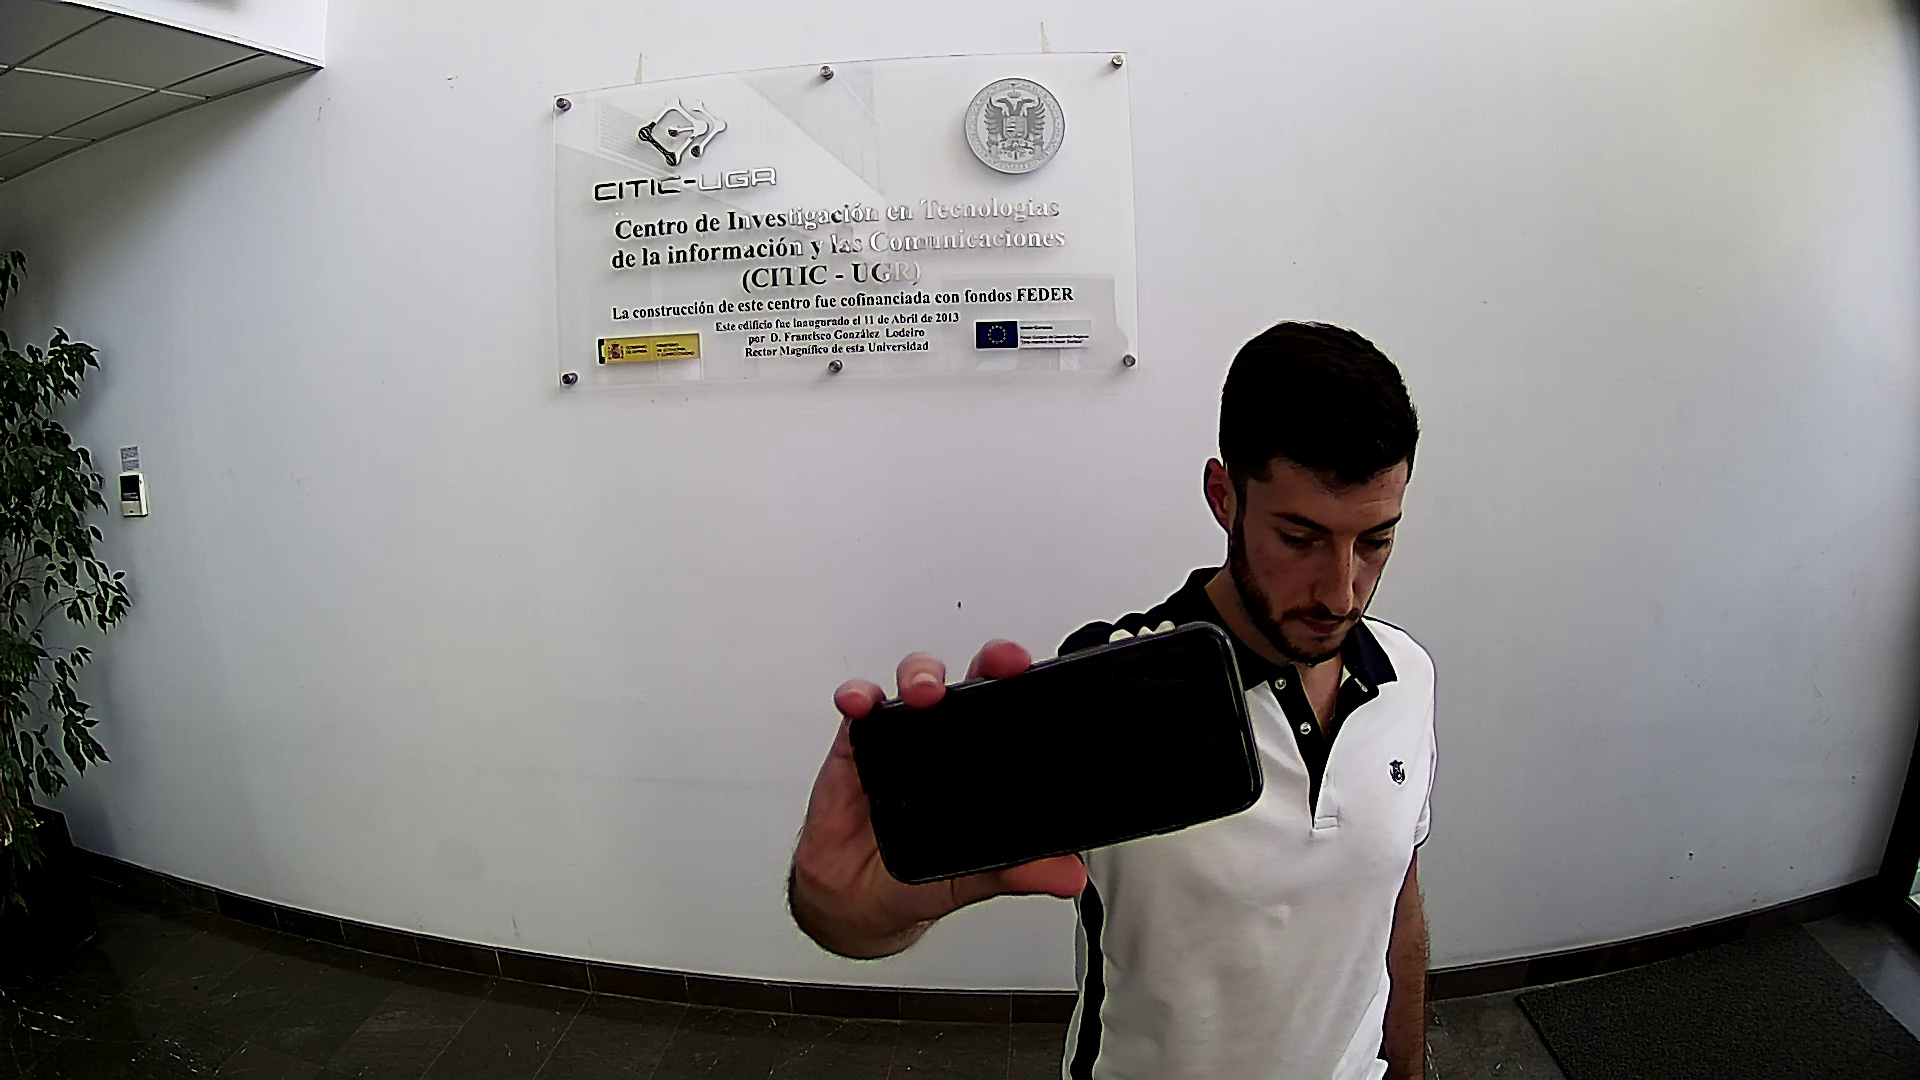smartphone: (847, 620, 1267, 889)
